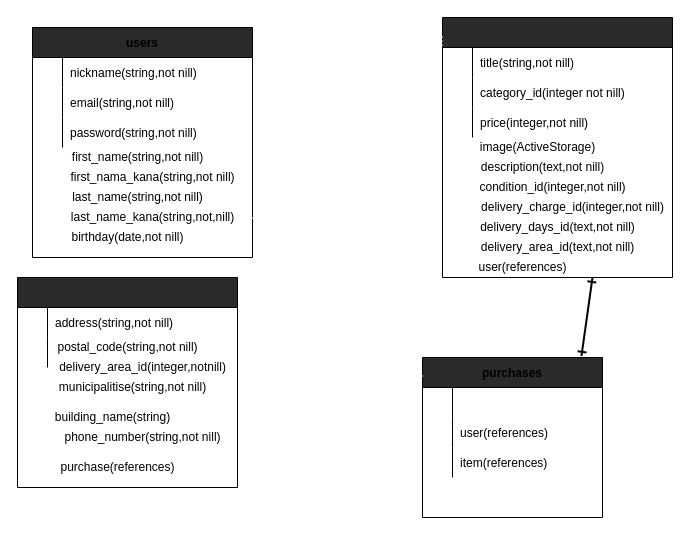
Image size: 690x535. Some labels were removed from this diagram. The shapes that lost their labels are listed below. From the top down, each one's box as (x1, y1, x2, y2) in pixels, then its label:
(442, 16, 672, 278): items
(16, 276, 238, 488): addresses
